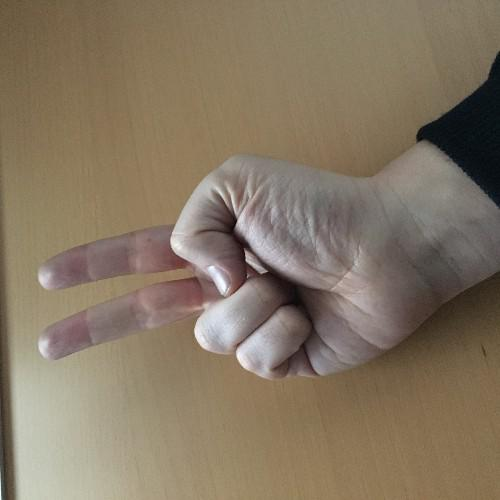scissors: (26, 152, 448, 382)
